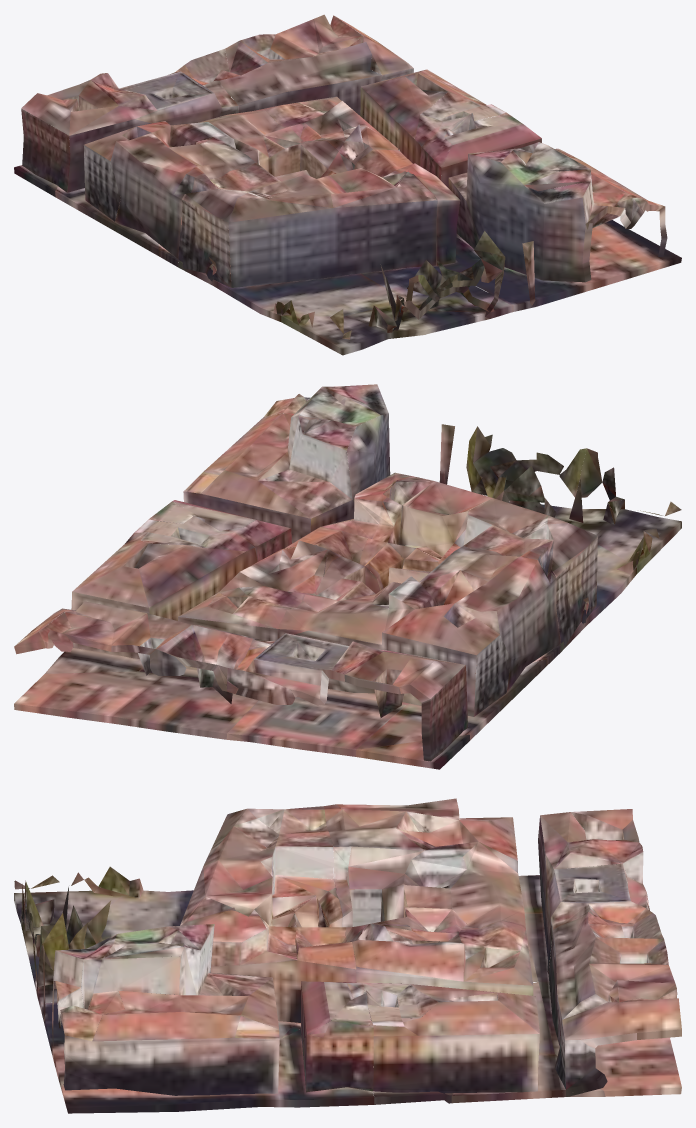
The picture shows the model from 3 angles, top to bottom: view 1: azimuth 30°, elevation 25°; view 2: azimuth 150°, elevation 25°; view 3: azimuth 270°, elevation 25°; orthographic projection. The views are drawn at different scales.
Visible parts, largest first — view 1: Mesh_0; view 2: Mesh_0; view 3: Mesh_0.
Part boxes in pixels (left/top/right/bottom): Mesh_0: left=14, top=14, right=681, bottom=355; Mesh_0: left=14, top=384, right=681, bottom=769; Mesh_0: left=14, top=798, right=681, bottom=1113.
Bounding box in the file's own units: 133 × 34.93 × 165.
2 materials, 2 textured.
